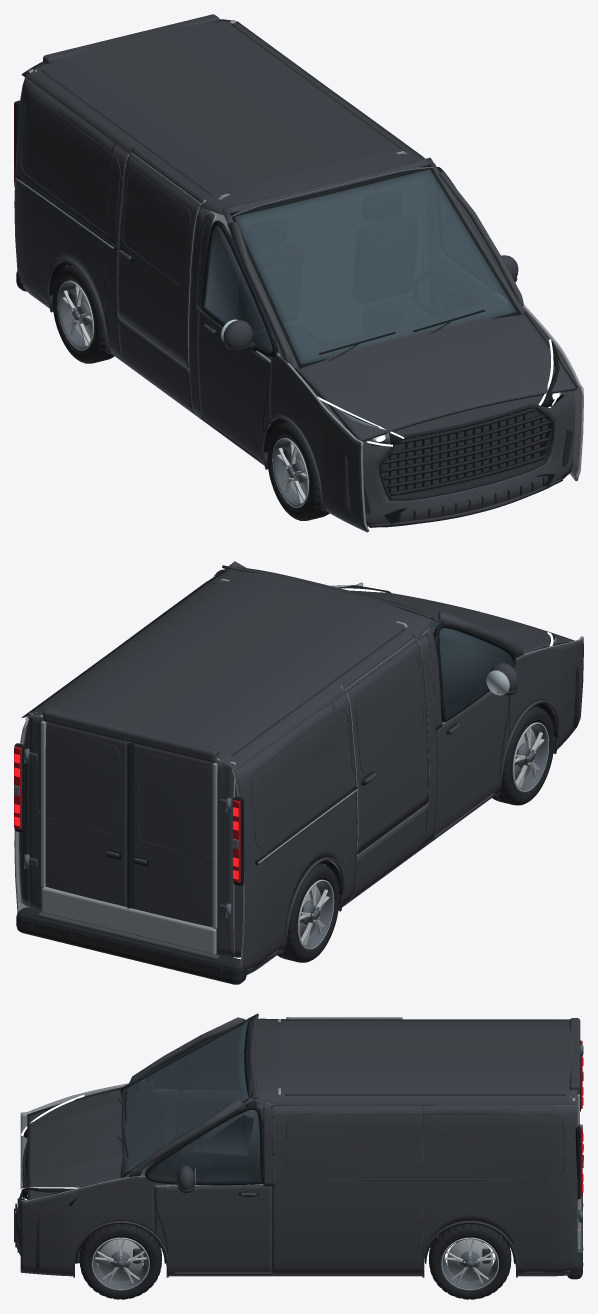
File: van.glb
The picture shows the model from 3 angles, top to bottom: view 1: azimuth 30°, elevation 25°; view 2: azimuth 150°, elevation 25°; view 3: azimuth 270°, elevation 25°; orthographic projection. The views are drawn at different scales.
Parts seen in each view (by area): view 1: Cab_Group, CargoRoof_Group, CargoRightWall_Group, SlidingDoor_right_Group, Chassis_Group; view 2: CargoRoof_Group, CargoRightWall_Group, Cab_Group, RearDoor_right_Group, RearDoor_left_Group, Chassis_Group, SlidingDoor_right_Group, CargoFloor_Group, CargoLeftWall_Group; view 3: CargoLeftWall_Group, Cab_Group, CargoRoof_Group, Chassis_Group, CargoRightWall_Group.
Boxes of the visible parts, left/top/right/bottom form: Cab_Group: left=196, top=151, right=583, bottom=532; CargoRoof_Group: left=21, top=14, right=433, bottom=217; CargoRightWall_Group: left=14, top=69, right=209, bottom=421; SlidingDoor_right_Group: left=117, top=152, right=201, bottom=368; Chassis_Group: left=16, top=261, right=329, bottom=520; CargoRoof_Group: left=21, top=567, right=433, bottom=770; CargoRightWall_Group: left=212, top=633, right=438, bottom=974; Cab_Group: left=208, top=561, right=583, bottom=841; RearDoor_right_Group: left=128, top=742, right=235, bottom=956; RearDoor_left_Group: left=24, top=712, right=129, bottom=908; Chassis_Group: left=16, top=703, right=557, bottom=984; SlidingDoor_right_Group: left=345, top=638, right=428, bottom=854; CargoFloor_Group: left=41, top=886, right=216, bottom=954; CargoLeftWall_Group: left=14, top=581, right=207, bottom=912; CargoLeftWall_Group: left=272, top=1094, right=583, bottom=1277; Cab_Group: left=14, top=1013, right=280, bottom=1277; CargoRoof_Group: left=248, top=1018, right=580, bottom=1105; Chassis_Group: left=75, top=1182, right=583, bottom=1299; CargoRightWall_Group: left=285, top=1017, right=583, bottom=1111.
Size of the model in its own units: 2.44 by 1.98 by 5.06.
